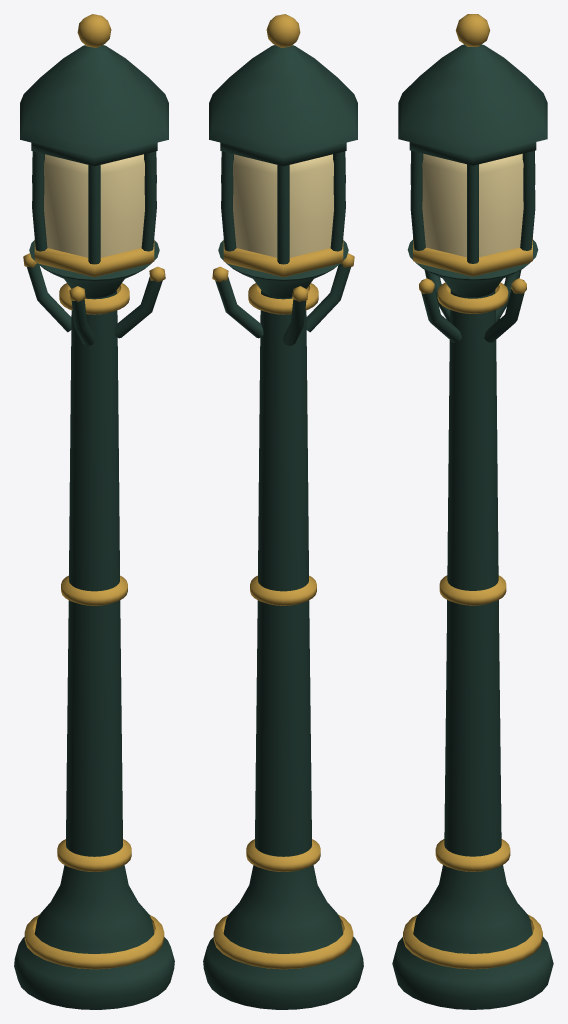
The model's file is style_lamp.glb.
3 renders of one model, left to right at view 1: azimuth 30°, elevation 25°; view 2: azimuth 150°, elevation 25°; view 3: azimuth 270°, elevation 25°, orthographic.
Visible parts, largest first — view 1: style_lamp_main, style_lamp_glass; view 2: style_lamp_main, style_lamp_glass; view 3: style_lamp_main, style_lamp_glass.
Boxes of the visible parts, <box> form: style_lamp_main: <box>14,14,174,1009</box>; style_lamp_glass: <box>44,154,144,257</box>; style_lamp_main: <box>203,14,363,1009</box>; style_lamp_glass: <box>233,154,333,257</box>; style_lamp_main: <box>392,14,553,1009</box>; style_lamp_glass: <box>422,153,523,257</box>.
Size of the model in its own units: 0.4488 by 2.77 by 0.42.
